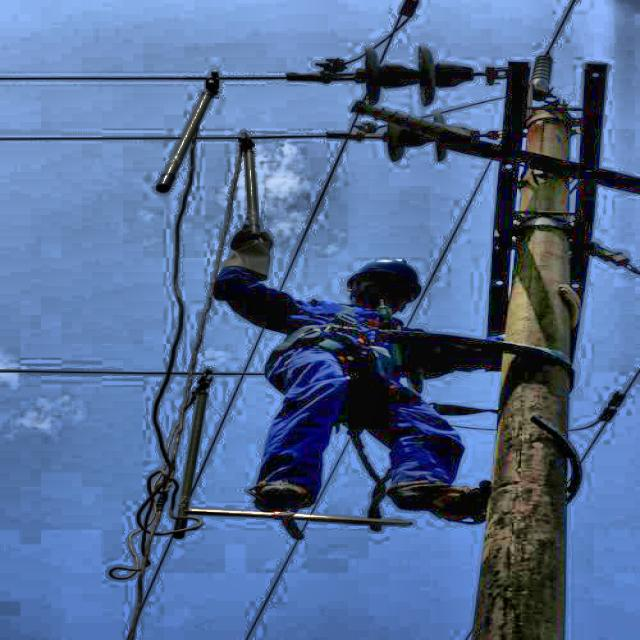helmet: (340, 260, 416, 308)
